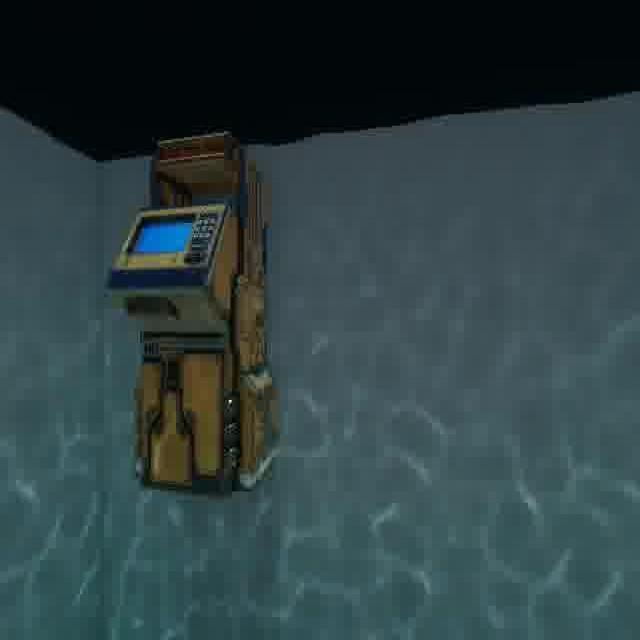Control Panel: (98, 123, 288, 504)
